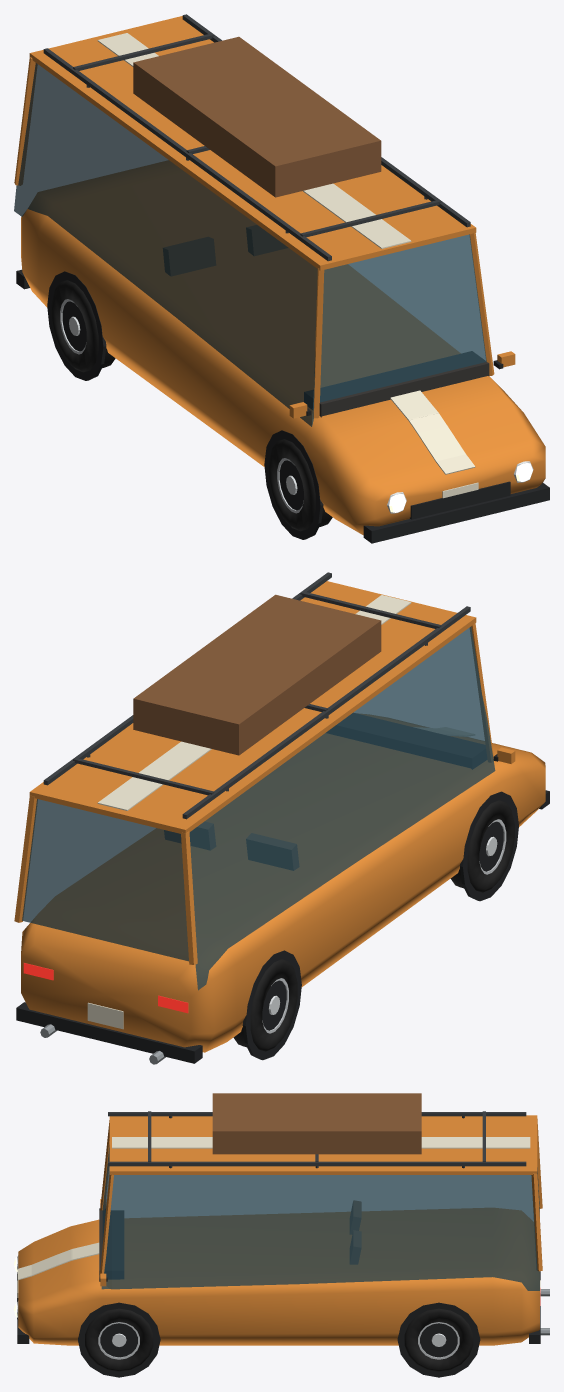
File: trail-bus.glb
3 views of the same model, one above another, from view 1: azimuth 30°, elevation 25°; view 2: azimuth 150°, elevation 25°; view 3: azimuth 270°, elevation 25° (orthographic). The views are drawn at different scales.
Visible parts, largest first — view 1: body, wheel_RR, wheel_FR; view 2: body, wheel_RR, wheel_FR, plate_R; view 3: body, wheel_RL, wheel_FL.
Boxes of the visible parts, x1,y1,x2,y2 form: body: [14, 14, 549, 543]; wheel_RR: [51, 280, 115, 372]; wheel_FR: [268, 439, 332, 531]; body: [14, 572, 549, 1063]; wheel_RR: [233, 959, 297, 1051]; wheel_FR: [450, 800, 514, 892]; plate_R: [87, 1002, 123, 1029]; body: [17, 1093, 542, 1377]; wheel_RL: [404, 1308, 473, 1371]; wheel_FL: [85, 1308, 153, 1371].
Bounding box in the file's own units: 2.24 × 3.01 × 6.37.
